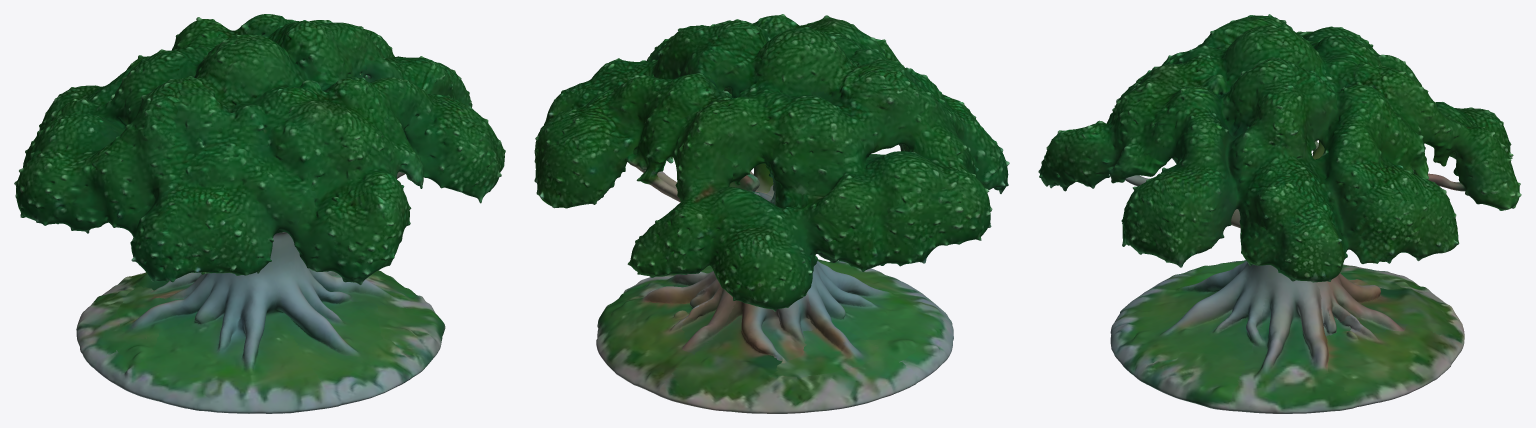
The model's file is tree-3-c.glb.
The picture shows the model from 3 angles, left to right: view 1: azimuth 30°, elevation 25°; view 2: azimuth 150°, elevation 25°; view 3: azimuth 270°, elevation 25°; orthographic projection. The views are drawn at different scales.
Parts seen in each view (by area): view 1: tripo_node_34b22188-45b2-4293-aa22-bbc9d2626cbf; view 2: tripo_node_34b22188-45b2-4293-aa22-bbc9d2626cbf; view 3: tripo_node_34b22188-45b2-4293-aa22-bbc9d2626cbf.
Part boxes in pixels (box(x1,y1,x2,y2)): tripo_node_34b22188-45b2-4293-aa22-bbc9d2626cbf: box(14, 14, 505, 413); tripo_node_34b22188-45b2-4293-aa22-bbc9d2626cbf: box(534, 14, 1009, 413); tripo_node_34b22188-45b2-4293-aa22-bbc9d2626cbf: box(1038, 14, 1521, 413).
Size of the model in its own units: 1 by 0.6652 by 0.967.
Materials: 1 (1 with a texture image).
